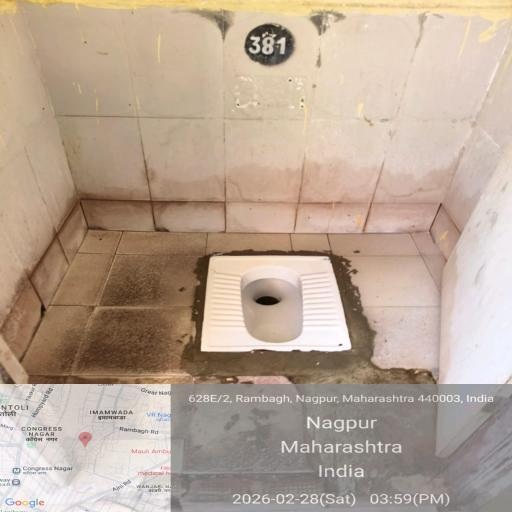clean_indian: (200, 250, 350, 354)
dirty_floor: (28, 242, 215, 382)
partial_dirty_floor: (67, 6, 504, 134), (61, 151, 492, 232), (357, 248, 447, 379)
